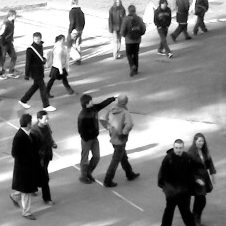person: (76, 93, 120, 184), (101, 95, 141, 186), (18, 31, 58, 112), (160, 139, 197, 226), (11, 114, 39, 220), (187, 132, 216, 225), (30, 109, 58, 205), (47, 32, 75, 97), (121, 4, 144, 76), (1, 8, 18, 81), (67, 1, 86, 65), (152, 1, 173, 57), (108, 1, 126, 59), (171, 1, 191, 41), (193, 1, 212, 34)
